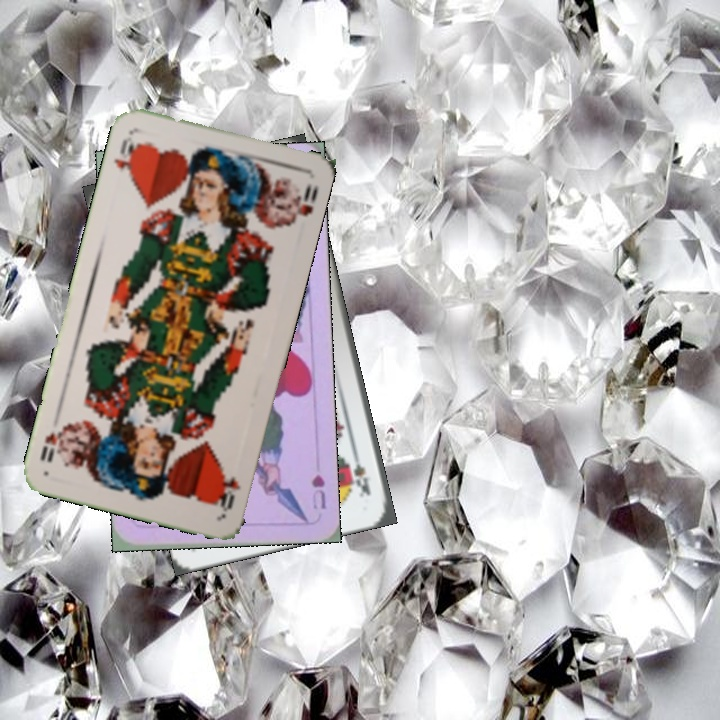HO: (109, 129, 142, 185), (212, 470, 243, 515)
HU: (308, 470, 329, 512)
SK: (348, 445, 374, 500)
